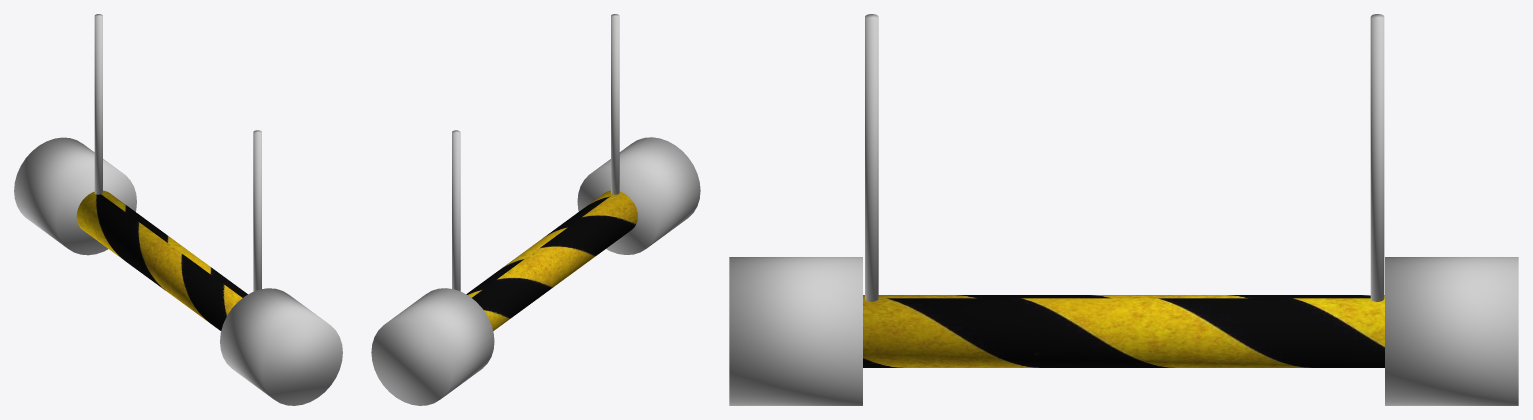
File: grapplebar.fbx
3 views of the same model, side by side, from view 1: azimuth 30°, elevation 25°; view 2: azimuth 150°, elevation 25°; view 3: azimuth 270°, elevation 25° (orthographic). The views are drawn at different scales.
Visible parts, largest first — view 1: Cylinder.002, Cylinder.003, Cylinder.001, Cylinder, Cylinder.004; view 2: Cylinder.001, Cylinder.003, Cylinder.002, Cylinder.004, Cylinder; view 3: Cylinder.003, Cylinder.002, Cylinder.001, Cylinder, Cylinder.004.
Boxes of the visible parts, x1,y1,x2,y2 form: Cylinder.002: (220,288,342,405); Cylinder.003: (76,190,247,330); Cylinder.001: (14,137,136,255); Cylinder: (94,14,102,194); Cylinder.004: (253,130,261,291); Cylinder.001: (371,288,494,405); Cylinder.003: (466,190,637,330); Cylinder.002: (577,137,700,254); Cylinder.004: (611,14,619,194); Cylinder: (452,130,460,291); Cylinder.003: (863,295,1384,367); Cylinder.002: (729,257,862,405); Cylinder.001: (1385,257,1518,405); Cylinder: (1370,14,1384,301); Cylinder.004: (865,14,878,301).
Bounding box in the file's own units: 35.02 × 99.11 × 185.
